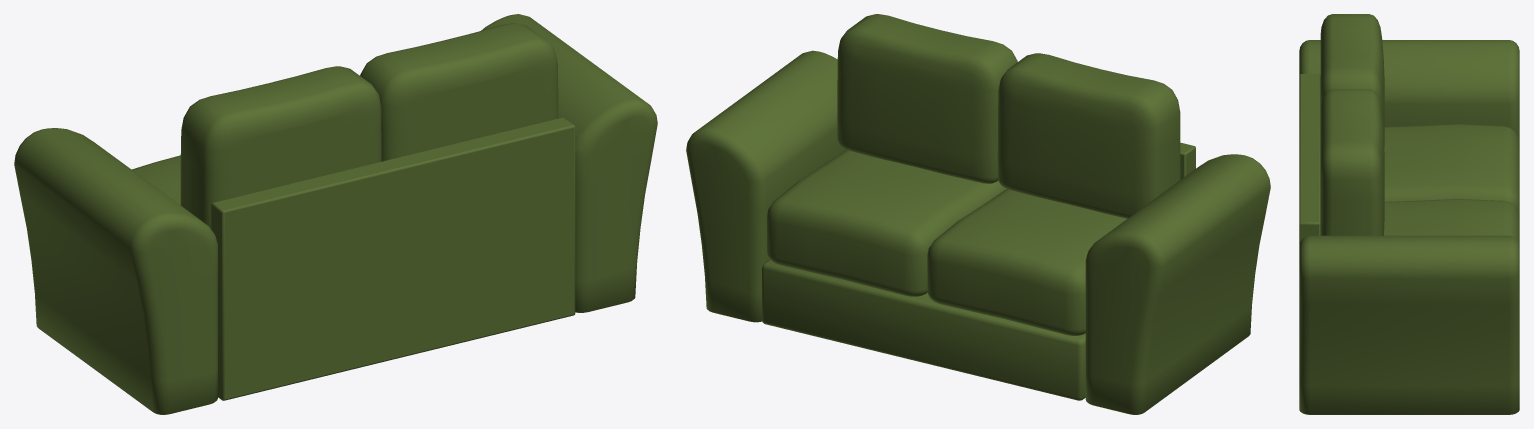
File: Couch.fbx
3 renders of one model, left to right at view 1: azimuth 30°, elevation 25°; view 2: azimuth 150°, elevation 25°; view 3: azimuth 270°, elevation 25°, orthographic. The views are drawn at different scales.
Visible parts, largest first — view 1: Couch; view 2: Couch; view 3: Couch.
Part boxes in pixels (x1,y1,x2,y2): Couch: (14,14,657,414); Couch: (686,14,1270,414); Couch: (1299,14,1519,414).
Bounding box in the file's own units: 2.42 × 1.18 × 1.01.
